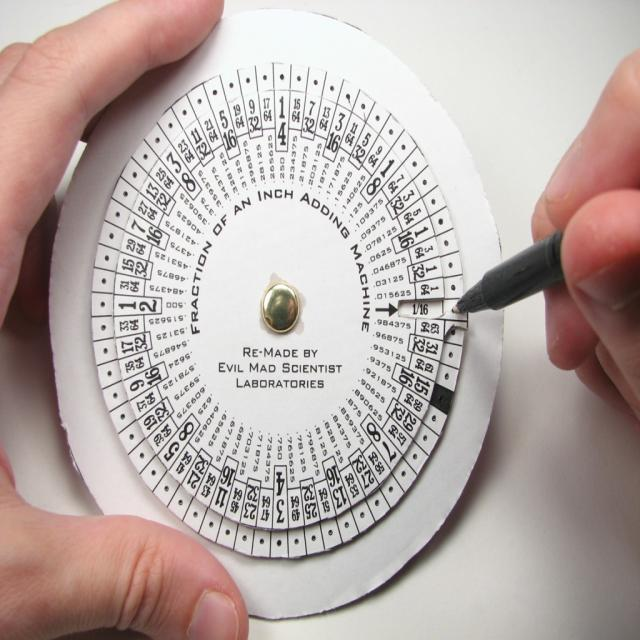pen: (449, 228, 566, 316)
